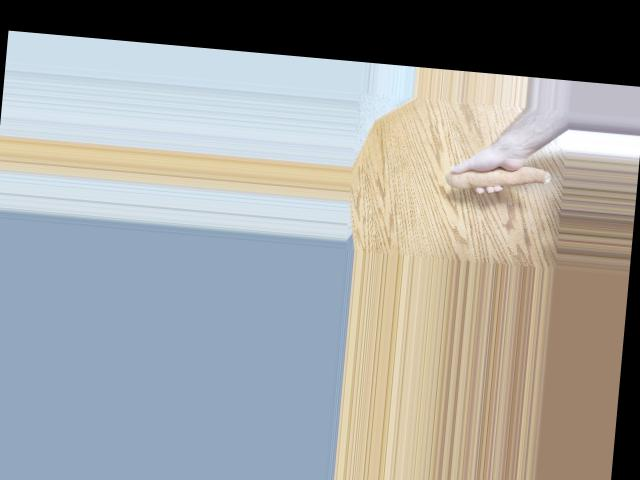sweet_potato: (446, 156, 551, 200)
